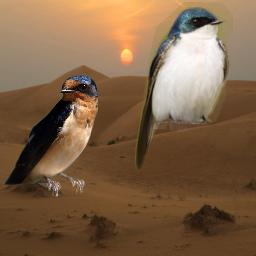Swallow: (135, 1, 233, 171), (3, 74, 98, 197)
